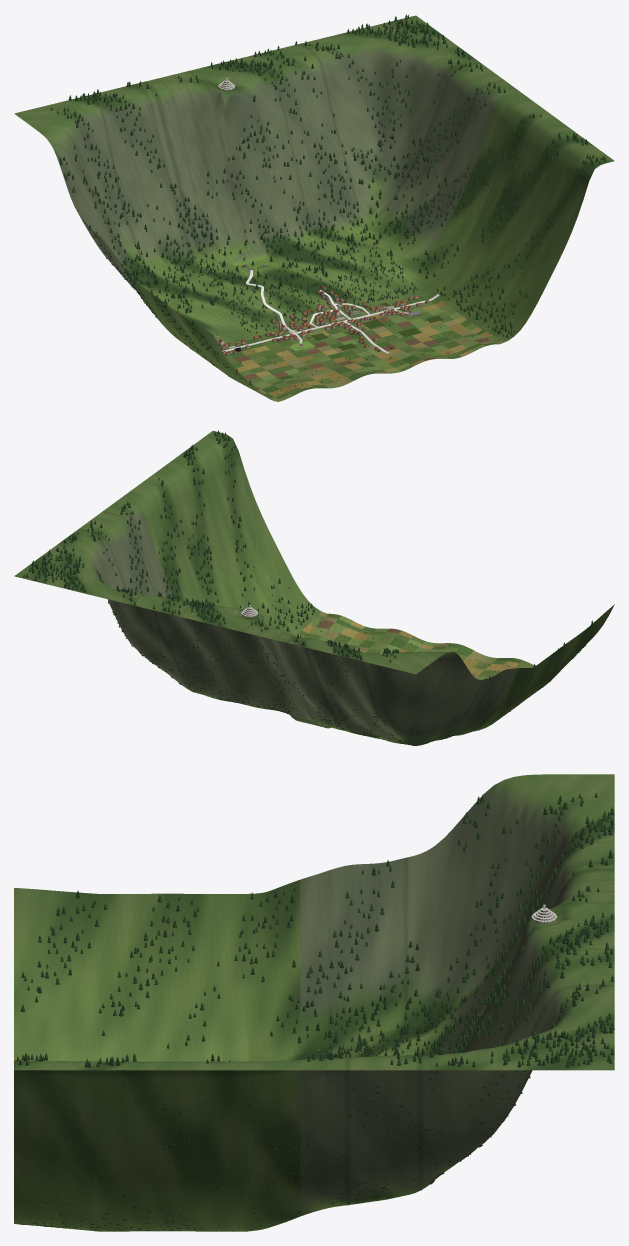
The model's file is world.glb.
3 renders of one model, top to bottom at view 1: azimuth 30°, elevation 25°; view 2: azimuth 150°, elevation 25°; view 3: azimuth 270°, elevation 25°, orthographic. The views are drawn at different scales.
Visible parts, largest first — view 1: T_3_1, T_4_1, T_5_1, T_2_1, T_2_0, T_1_0, T_1_1, T_6_3, T_5_0, T_6_4, T_6_2, T_6_5 (+47 smaller); view 2: T_6_5, T_6_4, T_0_1, T_6_3, T_5_5, T_4_1, T_3_1, T_6_2, T_1_0, T_2_0, T_2_1, T_1_1 (+24 smaller); view 3: T_0_4, T_0_3, T_0_5, T_0_1, T_0_2, T_6_4, T_6_3, T_6_5, T_6_2, T_0_0, T_6_1, T_5_5 (+28 smaller).
Boxes of the visible parts, left/top/right/bottom form: T_3_1: left=219, top=112, right=309, bottom=259; T_4_1: left=277, top=110, right=366, bottom=242; T_5_1: left=334, top=78, right=424, bottom=228; T_2_1: left=162, top=144, right=252, bottom=271; T_2_0: left=131, top=71, right=219, bottom=176; T_1_0: left=72, top=86, right=161, bottom=195; T_1_1: left=105, top=177, right=194, bottom=281; T_6_3: left=458, top=88, right=548, bottom=222; T_5_0: left=301, top=30, right=391, bottom=124; T_6_4: left=491, top=112, right=581, bottom=246; T_6_2: left=425, top=64, right=514, bottom=186; T_6_5: left=524, top=137, right=614, bottom=263; T_6_5: left=180, top=431, right=269, bottom=564; T_6_4: left=147, top=455, right=236, bottom=588; T_0_1: left=392, top=651, right=481, bottom=744; T_6_3: left=114, top=479, right=203, bottom=599; T_5_5: left=237, top=533, right=327, bottom=637; T_4_1: left=162, top=623, right=249, bottom=705; T_3_1: left=219, top=629, right=309, bottom=723; T_6_2: left=80, top=503, right=167, bottom=597; T_1_0: left=301, top=638, right=391, bottom=708; T_2_0: left=244, top=621, right=333, bottom=689; T_2_1: left=277, top=656, right=361, bottom=735; T_1_1: left=334, top=689, right=422, bottom=745; T_0_4: left=114, top=893, right=214, bottom=1056; T_0_3: left=214, top=875, right=314, bottom=1056; T_0_5: left=14, top=888, right=113, bottom=1056; T_0_1: left=414, top=777, right=514, bottom=1016; T_0_2: left=314, top=856, right=414, bottom=1038; T_6_4: left=114, top=1061, right=214, bottom=1173; T_6_3: left=214, top=1058, right=314, bottom=1173; T_6_5: left=14, top=1060, right=113, bottom=1173; T_6_2: left=314, top=1055, right=414, bottom=1155; T_0_0: left=514, top=774, right=614, bottom=912; T_6_1: left=414, top=1042, right=514, bottom=1133; T_5_5: left=14, top=1161, right=113, bottom=1231.
Size of the model in its own units: 1400 by 560 by 1201.
